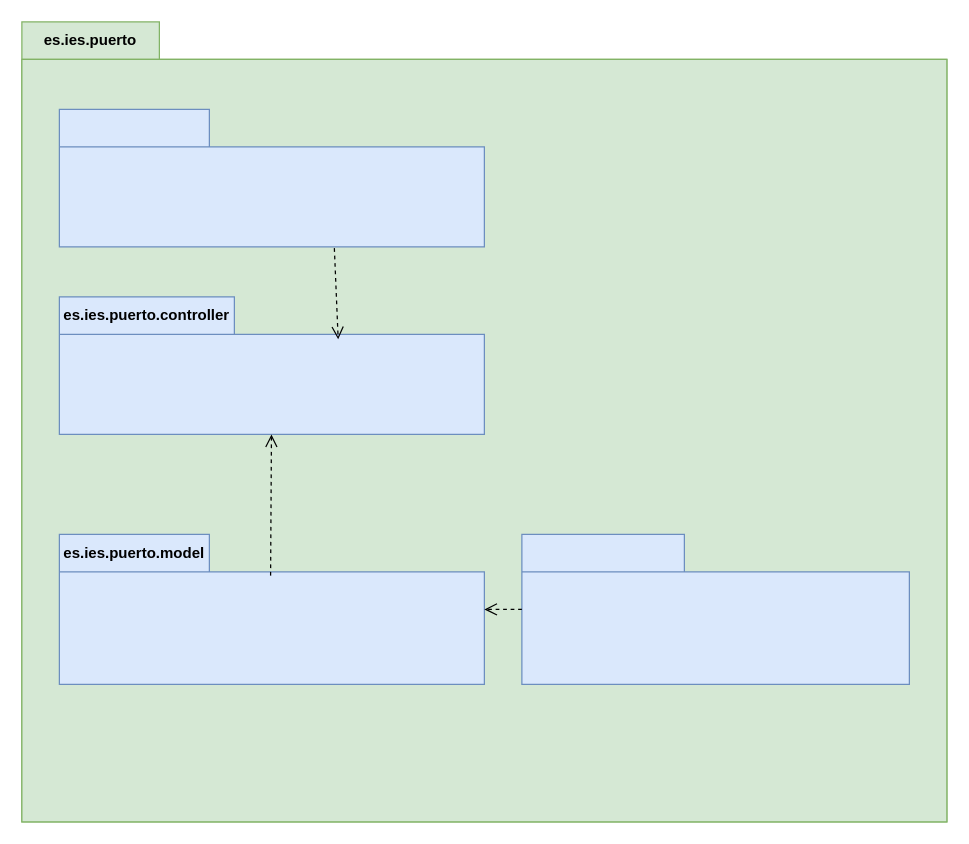
This 969x844 diagram has some shape labels left out. Here are the shapes that lost their labels. From the top down, the centre of each, then its label:
the point at 271,177: es.ies.puerto.view
the point at 715,608: es.ies.puerto.config
